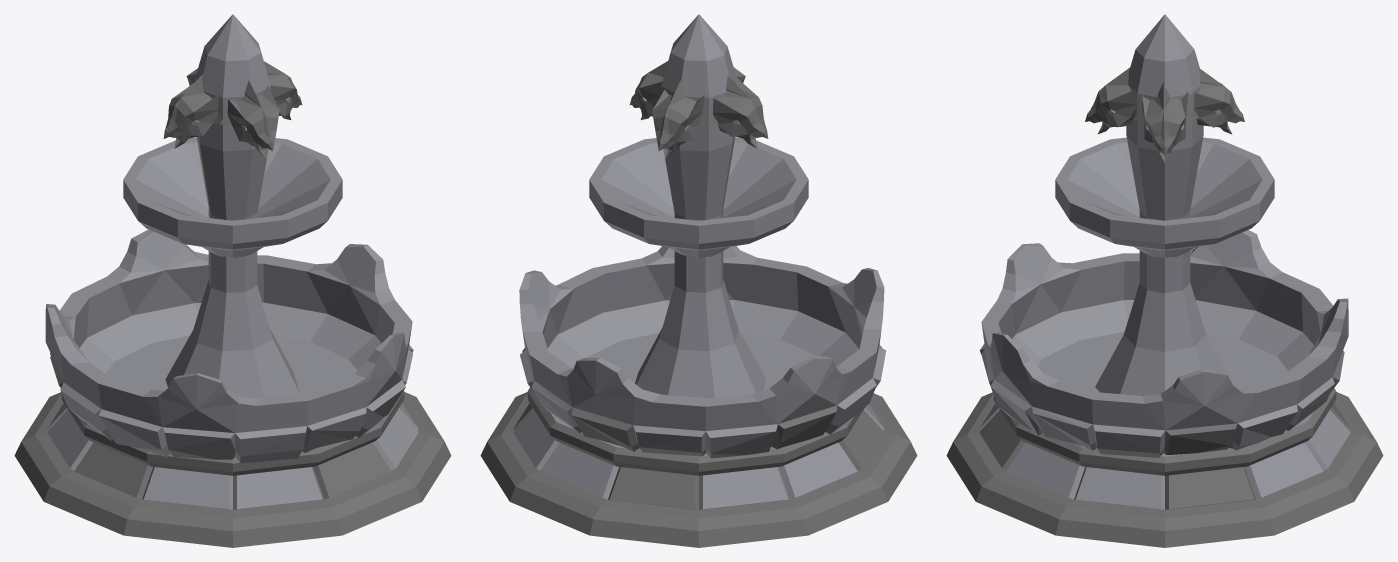
File: _fontan_1.fbx
3 views of the same model, side by side, from view 1: azimuth 30°, elevation 25°; view 2: azimuth 150°, elevation 25°; view 3: azimuth 270°, elevation 25° (orthographic).
Visible parts, largest first — view 1: fontain_1; view 2: fontain_1; view 3: fontain_1.
Boxes of the visible parts, box(x1,y1,x2,y2) form: fontain_1: box(14, 14, 451, 547); fontain_1: box(480, 14, 917, 547); fontain_1: box(946, 14, 1383, 547).
Bounding box in the file's own units: 344 × 383 × 344.
